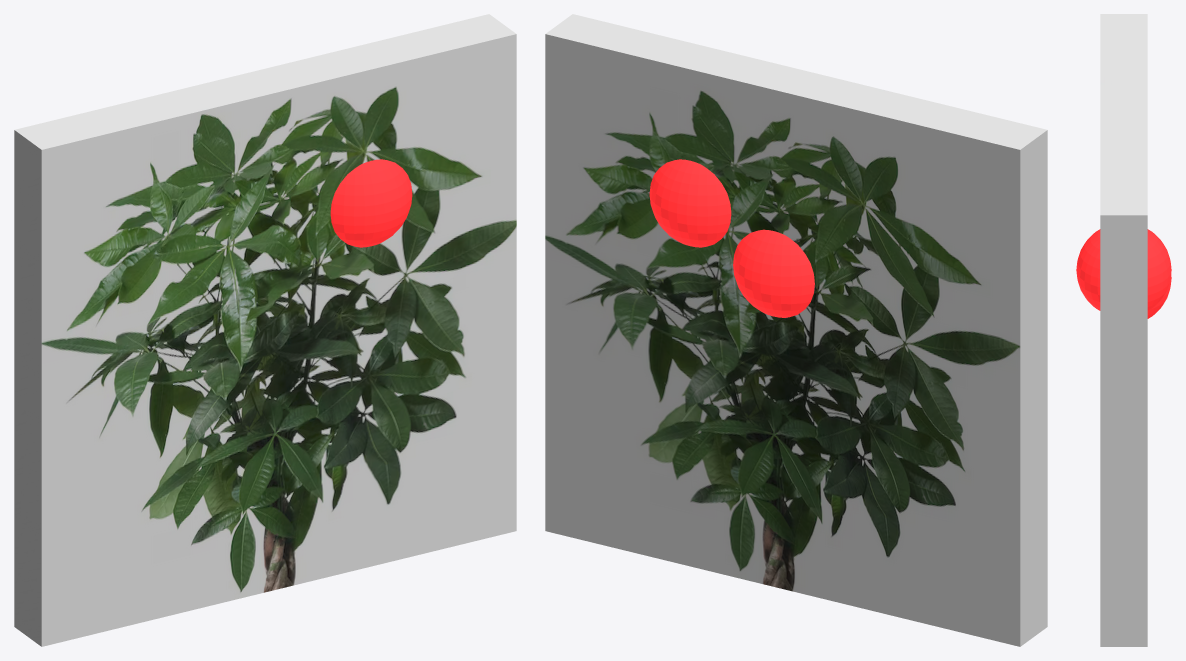
Rendered from tomato_2.dae.
3 renders of one model, left to right at view 1: azimuth 30°, elevation 25°; view 2: azimuth 150°, elevation 25°; view 3: azimuth 270°, elevation 25°, orthographic. The views are drawn at different scales.
Visible parts, largest first — view 1: Cube, Sphere.001; view 2: Cube, Sphere.001, Sphere.002; view 3: Cube, Sphere.001, Sphere.002.
Part boxes in pixels (x1,y1,x2,y2): Cube: (14, 14, 516, 646); Sphere.001: (330, 159, 412, 247); Cube: (545, 14, 1047, 646); Sphere.001: (649, 159, 731, 247); Sphere.002: (733, 229, 814, 317); Cube: (1100, 14, 1147, 646); Sphere.001: (1076, 229, 1171, 310); Sphere.002: (1147, 274, 1171, 318).
Bounding box in the file's own units: 1 × 0.2 × 1.
3 materials, 1 textured.
